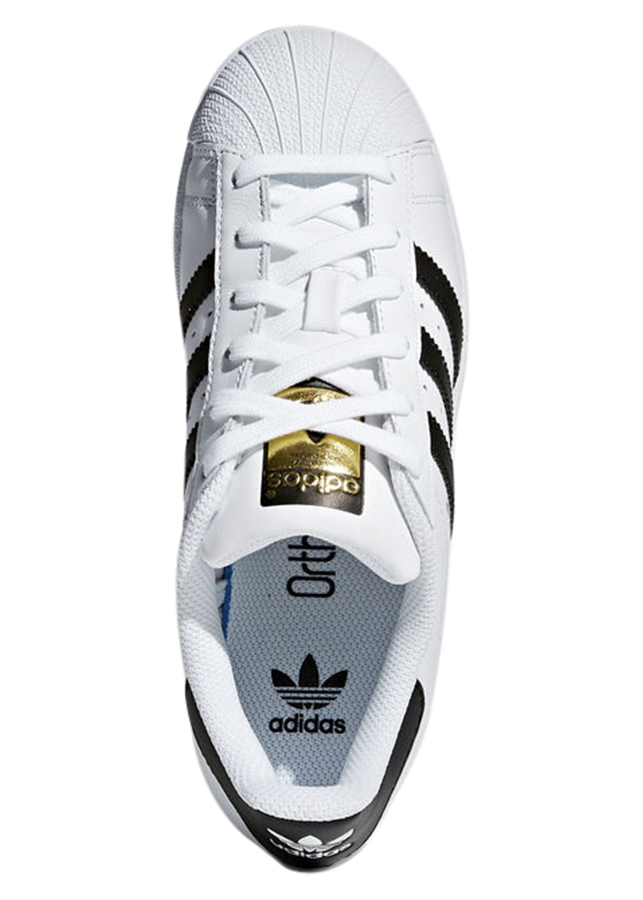Adidas: (261, 651, 355, 741), (263, 461, 361, 498)
